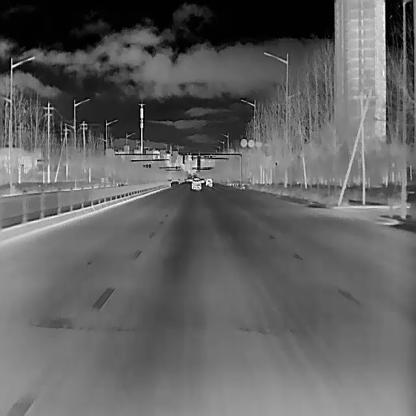car: (190, 177, 201, 190), (205, 177, 213, 186), (200, 176, 204, 182)
